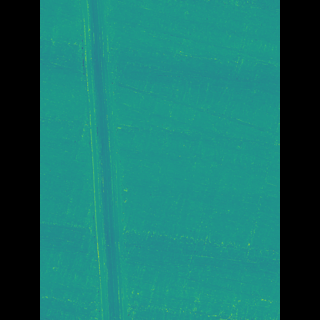Loch: (99, 0, 139, 320)
